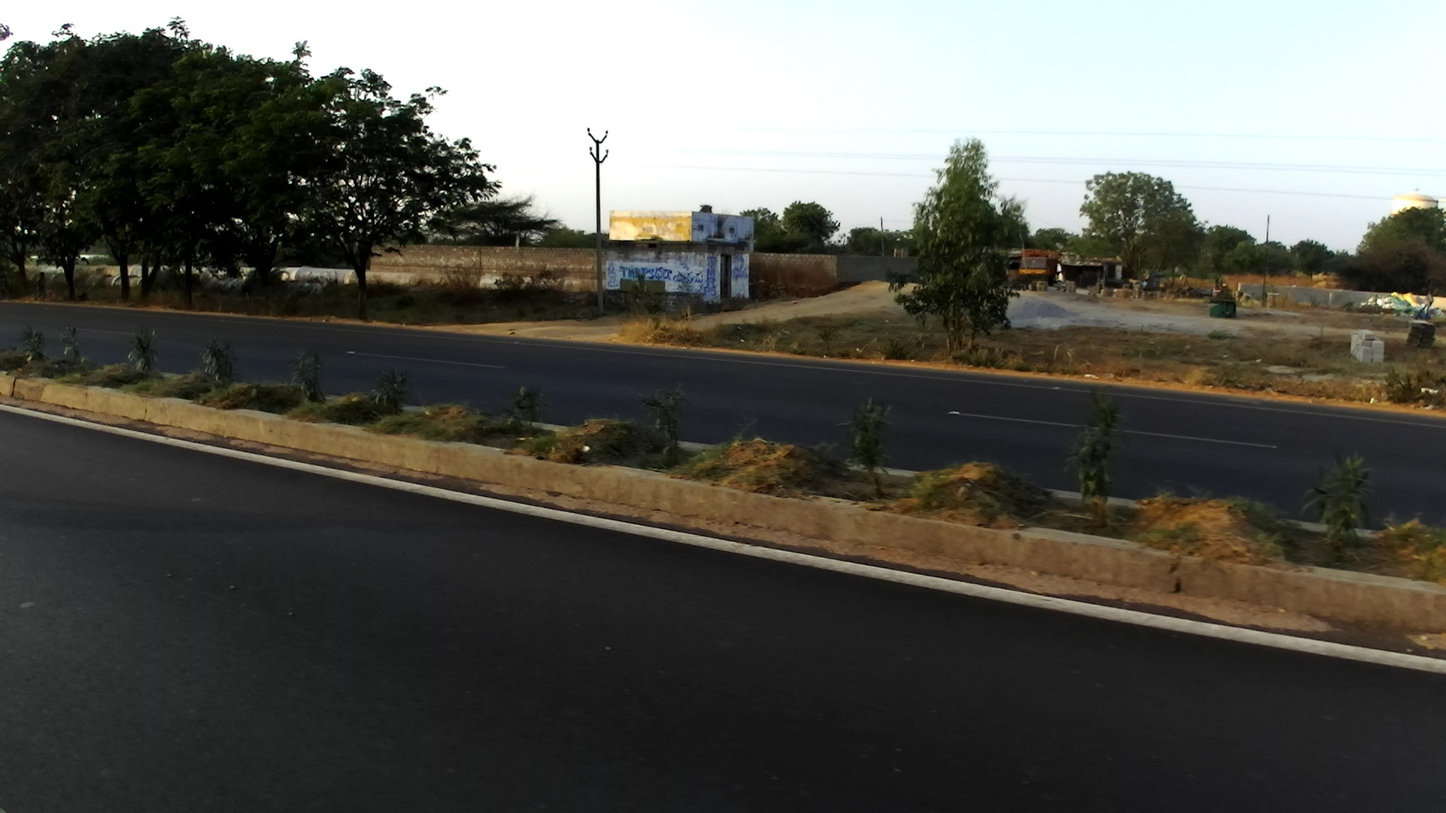person: (1138, 279, 1150, 294)
truck: (1016, 248, 1060, 290)
